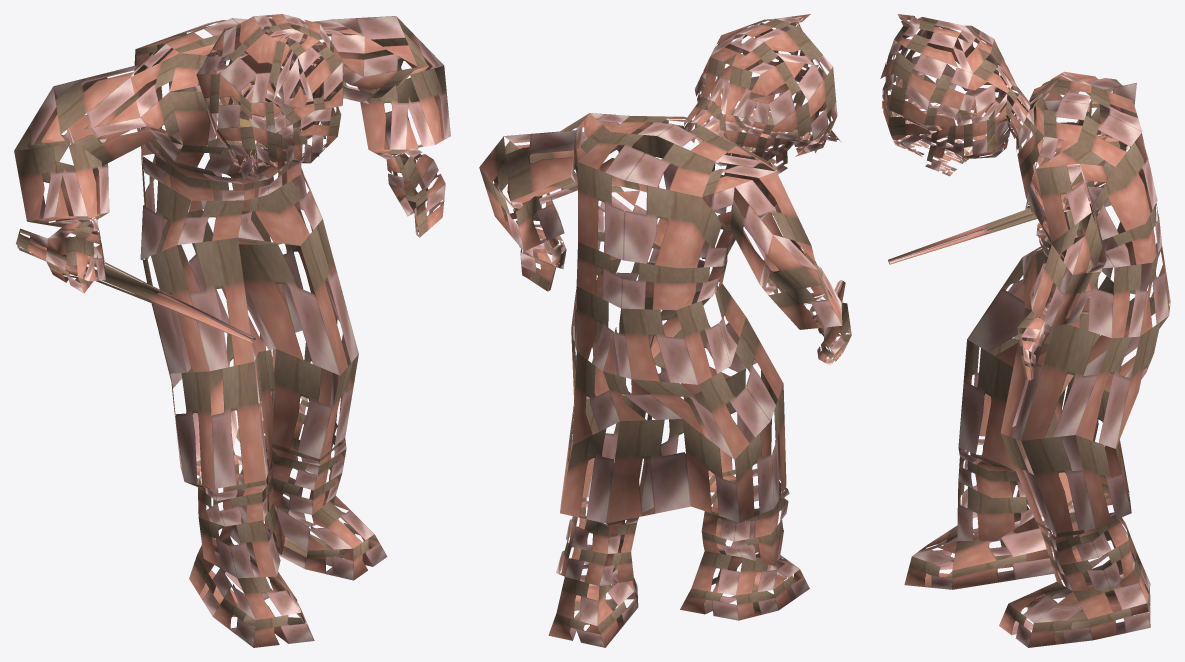
The picture shows the model from 3 angles, left to right: view 1: azimuth 30°, elevation 25°; view 2: azimuth 150°, elevation 25°; view 3: azimuth 270°, elevation 25°; orthographic projection. The views are drawn at different scales.
Visible parts, largest first — view 1: T1L3M003_0; view 2: T1L3M003_0; view 3: T1L3M003_0.
Boxes of the visible parts, box(x1,y1,x2,y2) form: T1L3M003_0: box(14, 14, 450, 647); T1L3M003_0: box(479, 14, 851, 647); T1L3M003_0: box(880, 14, 1170, 647).
Size of the model in its own units: 0.8007 by 1.15 by 0.546.
